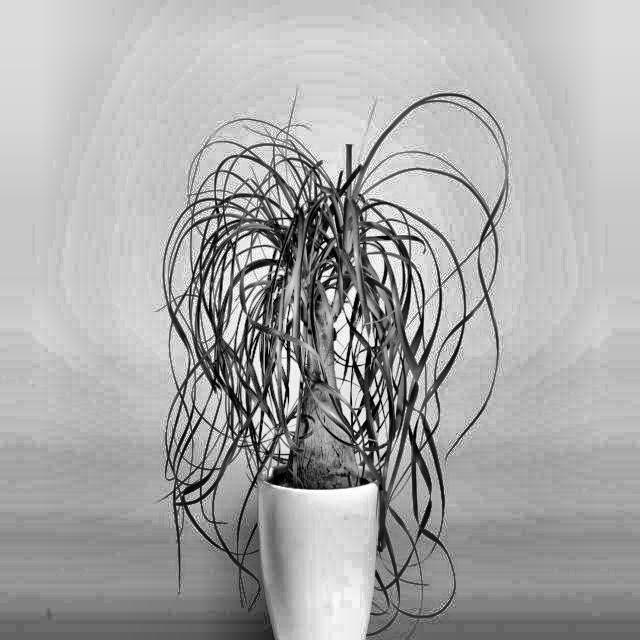plants: (159, 113, 505, 625)
